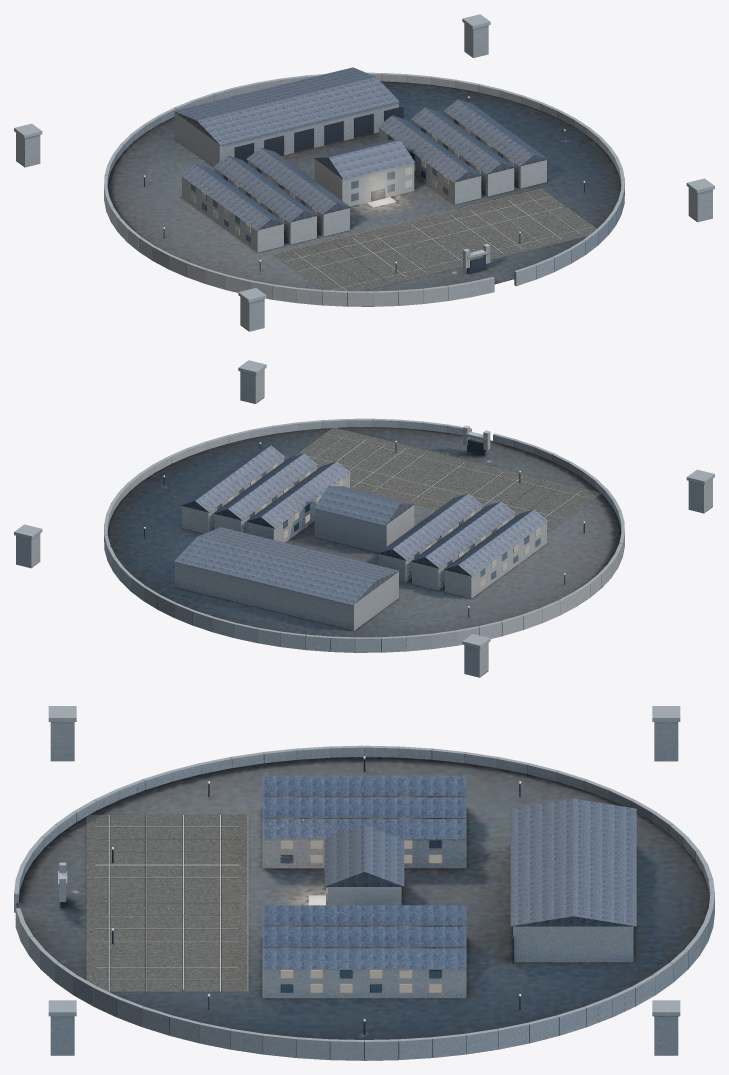
The model's file is knights_camp.glb.
3 renders of one model, top to bottom at view 1: azimuth 30°, elevation 25°; view 2: azimuth 150°, elevation 25°; view 3: azimuth 270°, elevation 25°, orthographic. The views are drawn at different scales.
Visible parts, largest first — view 1: site_ground, props_barracks, props_wall_gate, props_yard, props_hangar, walls_ext; view 2: site_ground, props_barracks, props_wall_gate, props_hangar, props_yard, walls_ext; view 3: site_ground, props_barracks, props_wall_gate, props_yard, props_hangar, walls_ext.
Part boxes in pixels (x1,y1,x2,y2): site_ground: (107, 81, 621, 291); props_barracks: (180, 99, 548, 252); props_wall_gate: (14, 14, 714, 331); props_yard: (273, 188, 596, 291); props_hangar: (174, 67, 403, 166); walls_ext: (314, 140, 414, 207); site_ground: (107, 427, 621, 637); props_barracks: (180, 445, 548, 598); props_wall_gate: (14, 360, 714, 677); props_hangar: (174, 527, 399, 630); props_yard: (294, 428, 600, 532); walls_ext: (314, 486, 414, 552); site_ground: (16, 757, 709, 1039); props_barracks: (262, 775, 466, 998); props_wall_gate: (14, 706, 714, 1060); props_yard: (86, 815, 248, 991); props_hangar: (510, 798, 636, 964); walls_ext: (308, 824, 404, 905).
Size of the model in its own units: 156 by 15.35 by 151.
Materials: 7 (7 with a texture image).
